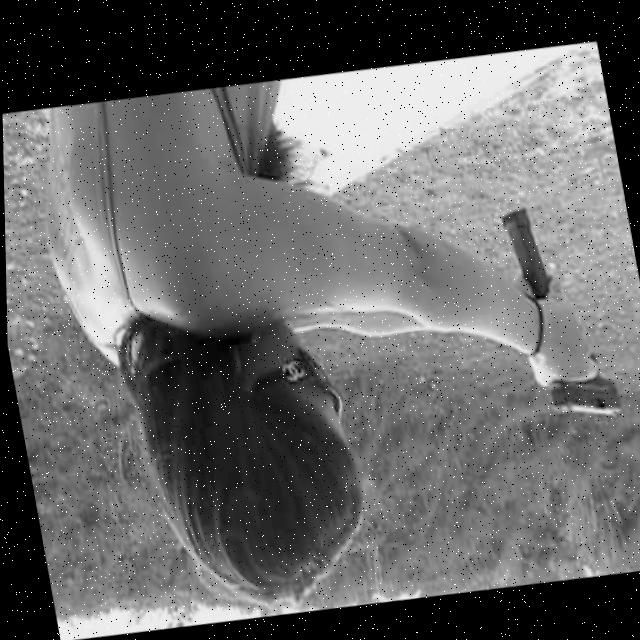firearm: (550, 366, 623, 423)
